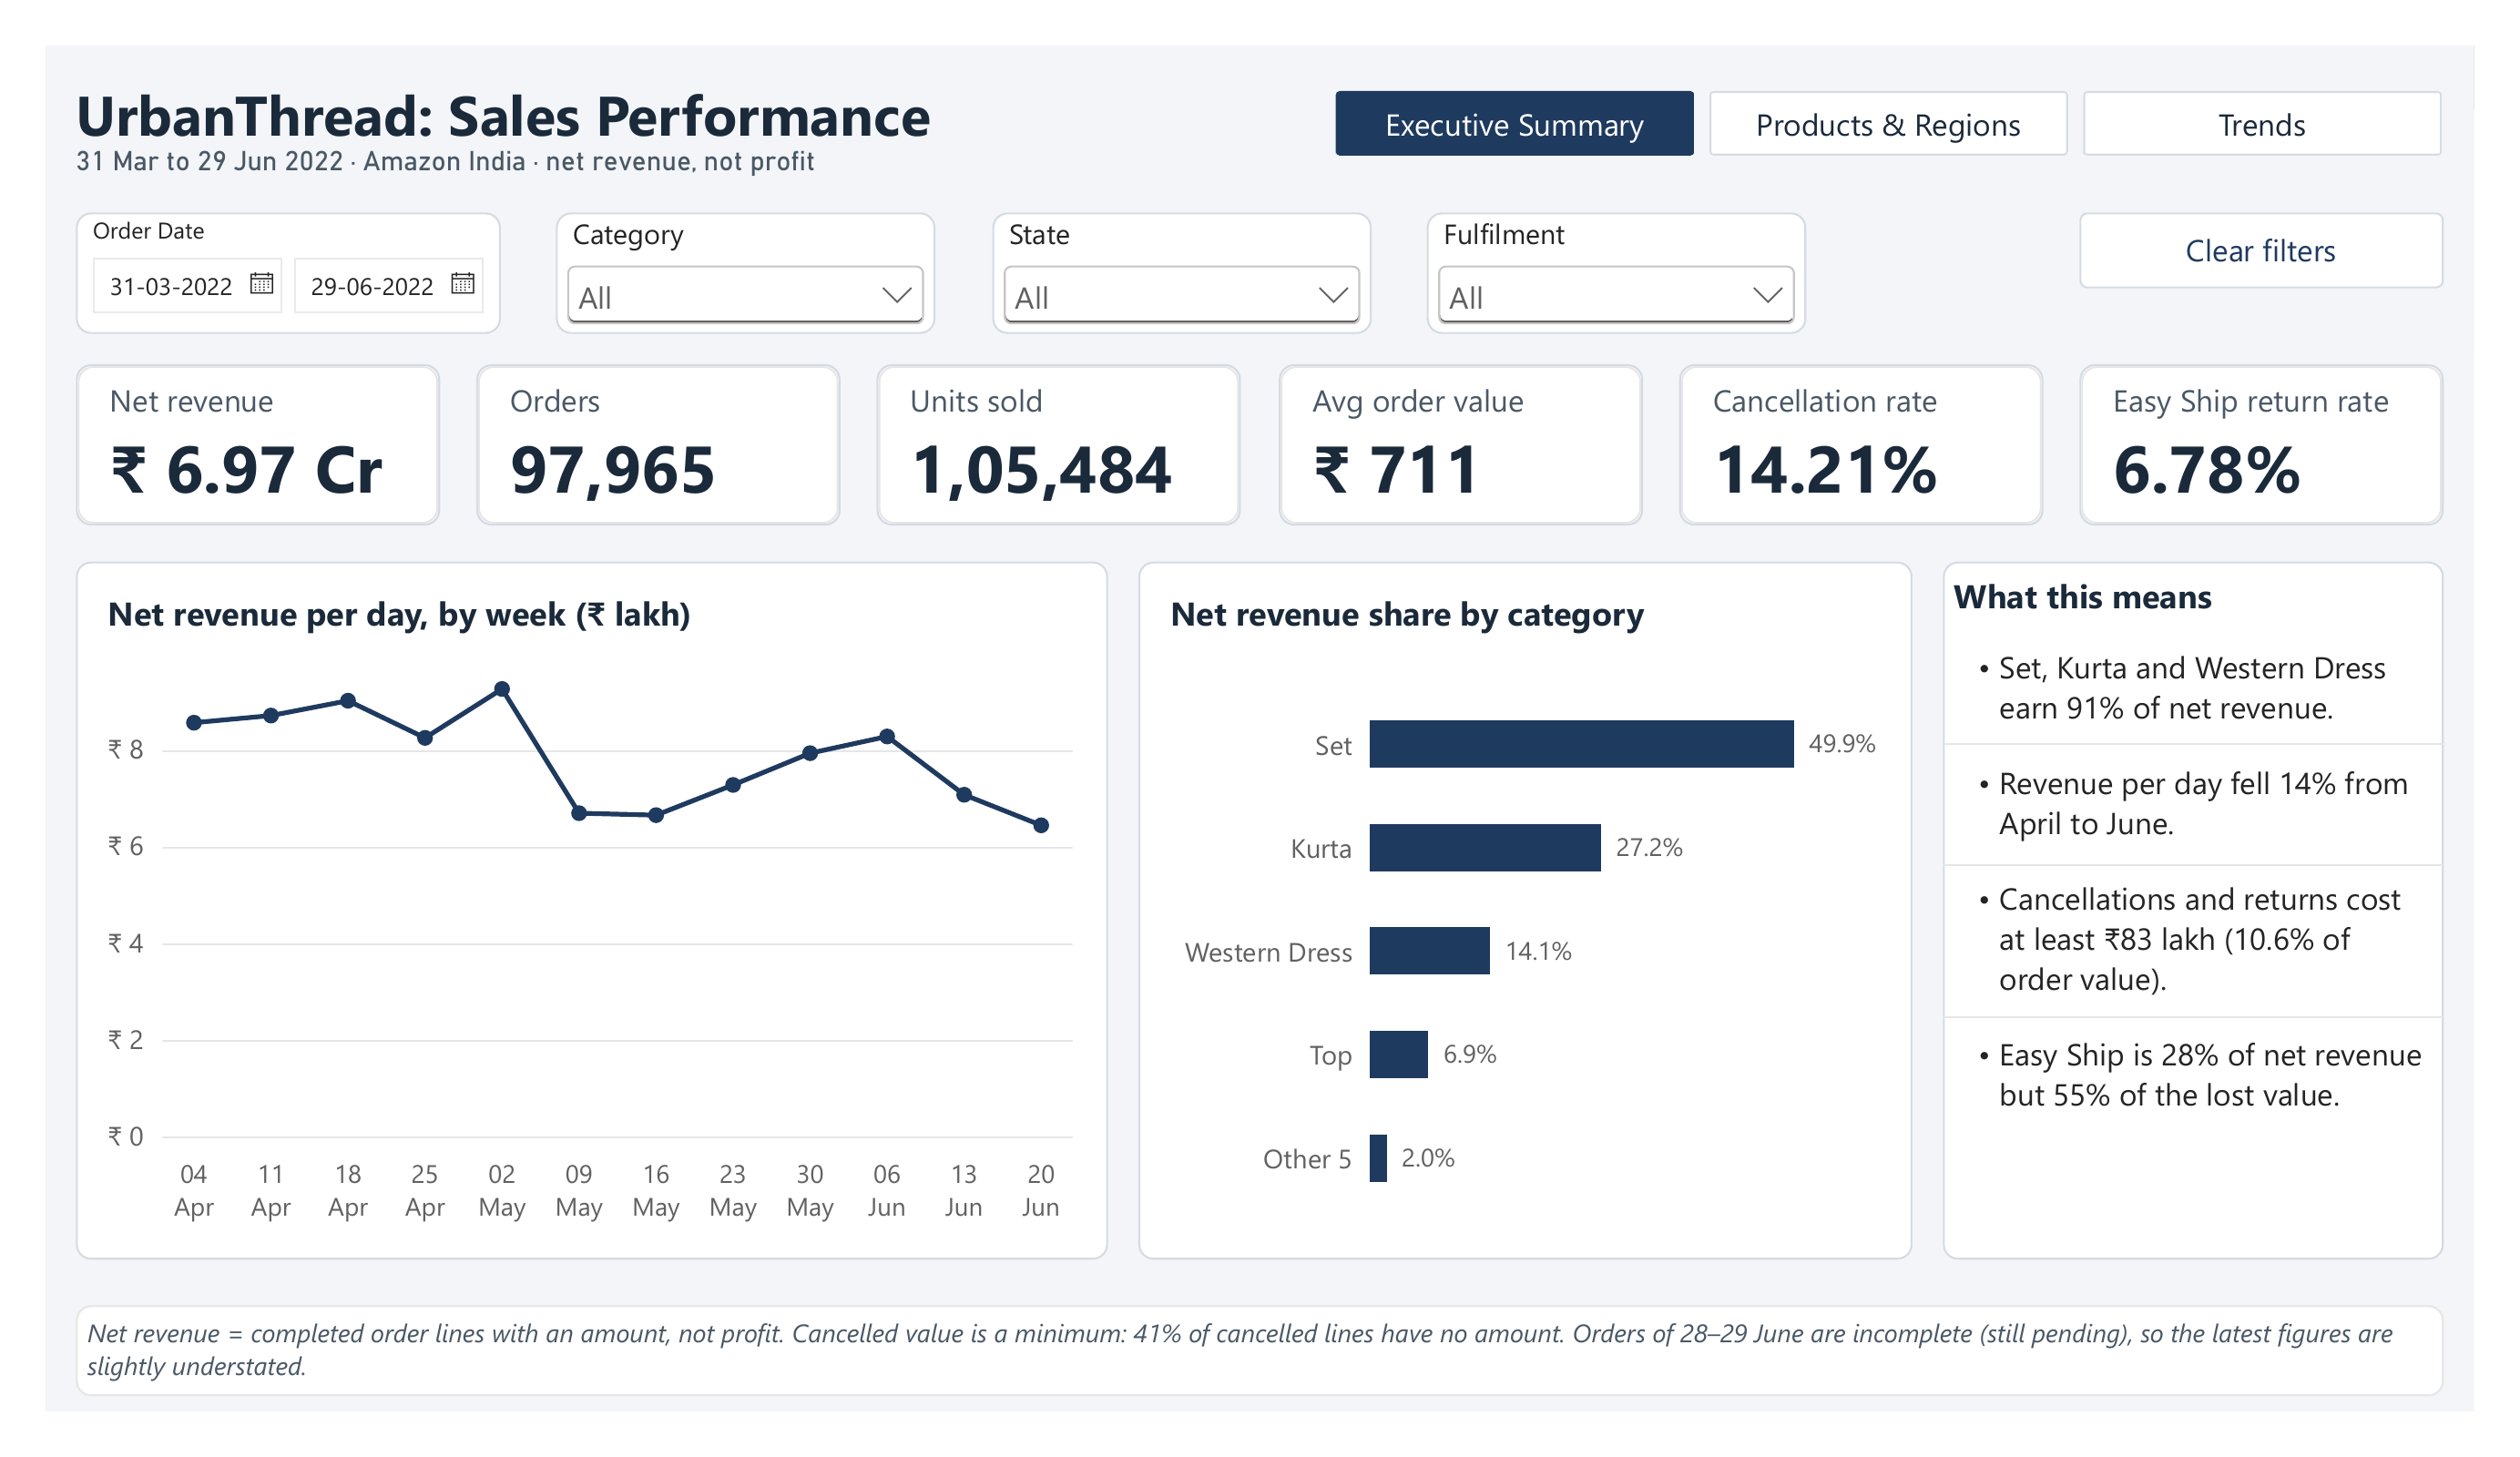

The page's visual inventory and layout, read from the dashboard file:
{"tool":"powerbi","page":{"name":"Executive Summary","canvas":[1280,720],"ordinal":0},"visuals":[{"type":"textbox","title":"UrbanThread: Sales Performance","box":[16,16,536,40],"z":0},{"type":"textbox","title":"What this means","box":[1000,272,264,368],"z":0,"group":"g1"},{"type":"textbox","title":"31 Mar to 29 Jun 2022 · Amazon India · net revenue, not profit","box":[16,53,408,24],"z":1000},{"type":"shape","box":[1000,336,264,64],"z":1000,"group":"g1"},{"type":"slicer","title":"Slicer - Date","fields":{"Values":["DimDate.Date"]},"box":[16,88,224,64],"z":2000},{"type":"shape","box":[1000,400,264,64],"z":2000,"group":"g1"},{"type":"slicer","title":"Slicer - Category","fields":{"Values":["DimProduct.Category"]},"box":[269.3,88,200,64],"z":3000},{"type":"shape","box":[1000,480,264,64],"z":3000,"group":"g1"},{"type":"slicer","title":"Slicer - Fulfilment","fields":{"Values":["DimFulfilment.Fulfilment"]},"box":[728,88,200,64],"z":4000},{"type":"slicer","title":"Slicer - Ship State","fields":{"Values":["FactSales.ship_state"]},"box":[498.7,88,200,64],"z":5000},{"type":"cardVisual","title":"KPI Net Revenue","fields":{"Data":["_Measures.Net Revenue Label"]},"box":[16,168,192,85],"z":6000},{"type":"cardVisual","title":"KPI Orders","fields":{"Data":["_Measures.Orders"]},"box":[227.2,168,192,85],"z":7000},{"type":"cardVisual","title":"KPI Units sold","fields":{"Data":["_Measures.Units sold"]},"box":[438.4,168,192,85],"z":8000},{"type":"cardVisual","title":"KPI Avg Order Value","fields":{"Data":["_Measures.Avg Order Value"]},"box":[649.6,168,192,85],"z":9000},{"type":"cardVisual","title":"KPI Cancellation rate","fields":{"Data":["_Measures.Cancellation rate"]},"box":[860.8,168,192,85],"z":10000},{"type":"cardVisual","title":"KPI Easy ship return rate","fields":{"Data":["_Measures.Easy Ship Return Rate"]},"box":[1072,168,192,85],"z":11000},{"type":"lineChart","title":"Net revenue per day, by week (₹ lakh)","fields":{"Category":["DimDate.WeekStart"],"Y":["_Measures.Net Revenue per Day Lakh"]},"box":[16,272,544,368],"z":12000},{"type":"clusteredBarChart","title":"Net revenue share by category","fields":{"Category":["DimProduct.Category Group"],"Y":["_Measures.Net Revenue Share"]},"box":[576,272,408,368],"z":13000},{"type":"group","id":"g1","title":"Findings","box":[1000,272,264,368],"z":14000},{"type":"pageNavigator","box":[672,16,600,50],"z":15000},{"type":"actionButton","title":"Button - clear filters","box":[1072,88,192,40],"z":16000},{"type":"shape","title":"Net revenue = completed order lines with an amount, not profit. Cancelled value is a minimum: 41% of cancelled lines have no amount. Orders of 28–29 June are incomplete (still pending), so the latest ","box":[16,664,1248,48],"z":17000}]}

Visuals, with their boxes on the page's 1280x720 design canvas (x1, y1, x2, y2). These are canvas units, not pixel positions in the 2520x1457 screenshot, which may show the page scaled, cropped or inside an application window:
"UrbanThread: Sales Performance" textbox: [left=16, top=16, right=552, bottom=56]
"What this means" textbox: [left=1000, top=272, right=1264, bottom=640]
"31 Mar to 29 Jun 2022 · Amazon India · net revenue, not profit" textbox: [left=16, top=53, right=424, bottom=77]
shape: [left=1000, top=336, right=1264, bottom=400]
"Slicer - Date" slicer: [left=16, top=88, right=240, bottom=152]
shape: [left=1000, top=400, right=1264, bottom=464]
"Slicer - Category" slicer: [left=269, top=88, right=469, bottom=152]
shape: [left=1000, top=480, right=1264, bottom=544]
"Slicer - Fulfilment" slicer: [left=728, top=88, right=928, bottom=152]
"Slicer - Ship State" slicer: [left=499, top=88, right=699, bottom=152]
"KPI Net Revenue" cardVisual: [left=16, top=168, right=208, bottom=253]
"KPI Orders" cardVisual: [left=227, top=168, right=419, bottom=253]
"KPI Units sold" cardVisual: [left=438, top=168, right=630, bottom=253]
"KPI Avg Order Value" cardVisual: [left=650, top=168, right=842, bottom=253]
"KPI Cancellation rate" cardVisual: [left=861, top=168, right=1053, bottom=253]
"KPI Easy ship return rate" cardVisual: [left=1072, top=168, right=1264, bottom=253]
"Net revenue per day, by week (₹ lakh)" lineChart: [left=16, top=272, right=560, bottom=640]
"Net revenue share by category" clusteredBarChart: [left=576, top=272, right=984, bottom=640]
"Findings" group: [left=1000, top=272, right=1264, bottom=640]
pageNavigator: [left=672, top=16, right=1272, bottom=66]
"Button - clear filters" actionButton: [left=1072, top=88, right=1264, bottom=128]
"Net revenue = completed order lines with an amount, not profit. Cancelled value is a minimum: 41% of cancelled lines have no amount. Orders of 28–29 June are incomplete (still pending), so the latest " shape: [left=16, top=664, right=1264, bottom=712]
